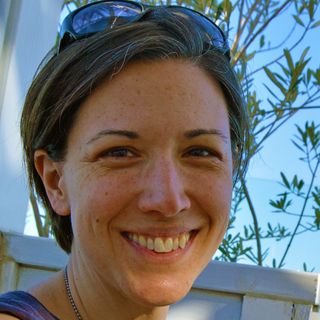eye: (94, 141, 143, 165), (179, 141, 222, 165)
